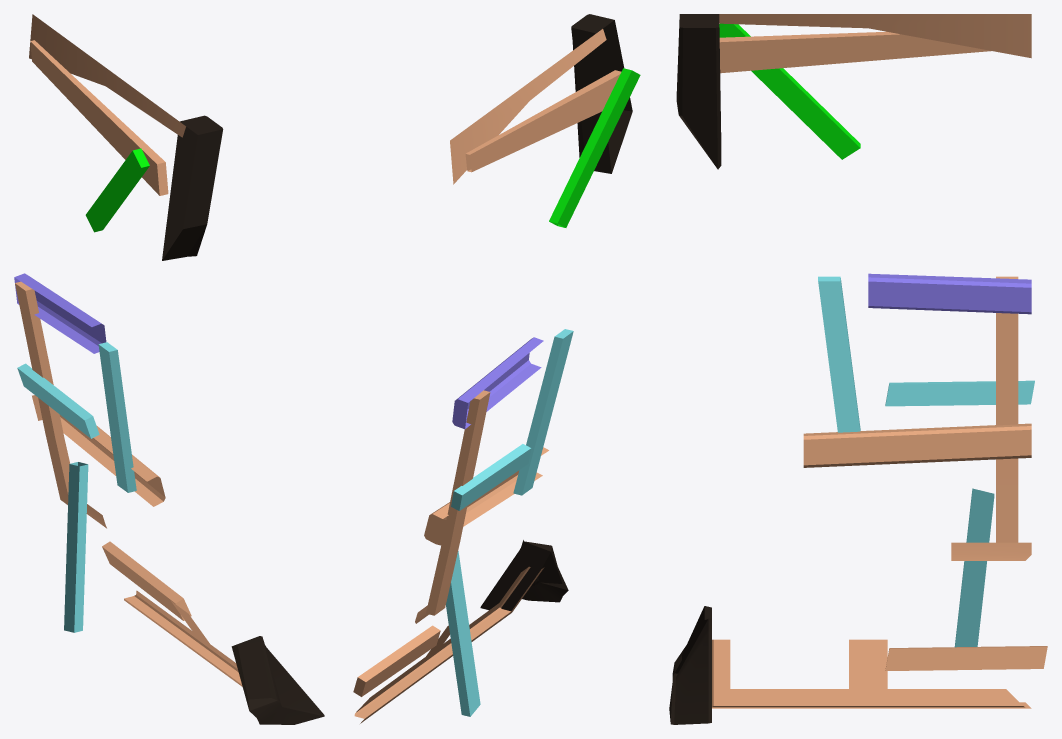
Rendered from Curved_wall_broken_01.fbx.
The picture shows the model from 3 angles, left to right: view 1: azimuth 30°, elevation 25°; view 2: azimuth 150°, elevation 25°; view 3: azimuth 270°, elevation 25°; orthographic projection. The views are drawn at different scales.
Parts seen in each view (by area): view 1: Object015; view 2: Object015; view 3: Object015.
Boxes of the visible parts, box(x1,y1,x2,y2) form: Object015: box(14, 14, 324, 724); Object015: box(353, 14, 640, 723); Object015: box(669, 14, 1047, 724).
Size of the model in its own units: 0.6235 by 2.2 by 1.16.
